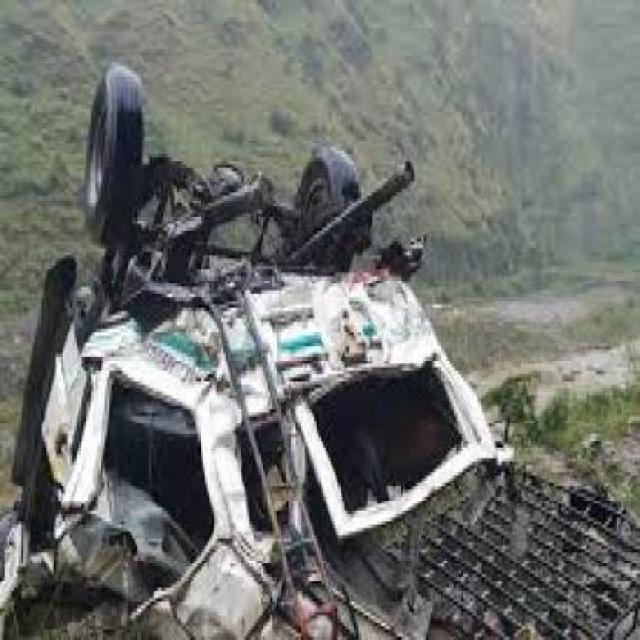accident: (4, 65, 636, 627)
